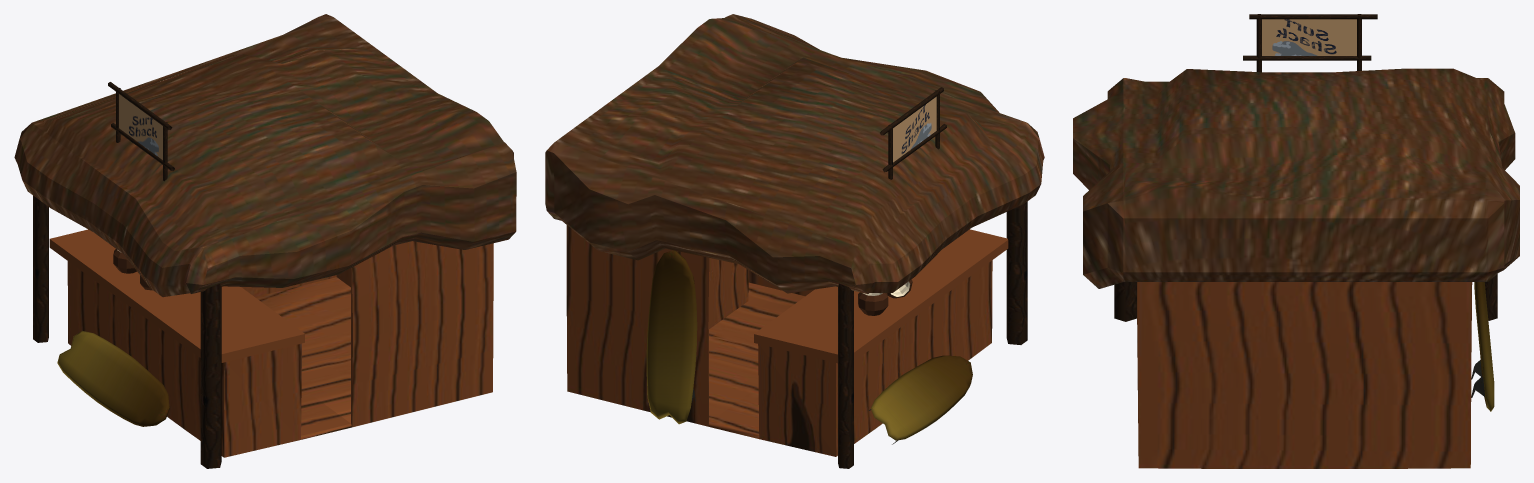
The model's file is Surf Bar.FBX.
The picture shows the model from 3 angles, left to right: view 1: azimuth 30°, elevation 25°; view 2: azimuth 150°, elevation 25°; view 3: azimuth 270°, elevation 25°; orthographic projection. The views are drawn at different scales.
Visible parts, largest first — view 1: Surf Shack; view 2: Surf Shack; view 3: Surf Shack.
Part boxes in pixels (x1=…): Surf Shack: x1=14, y1=14, x2=516, y2=468; Surf Shack: x1=545, y1=14, x2=1044, y2=468; Surf Shack: x1=1073, y1=14, x2=1519, y2=468.
Size of the model in its own units: 264 by 221 by 282.
